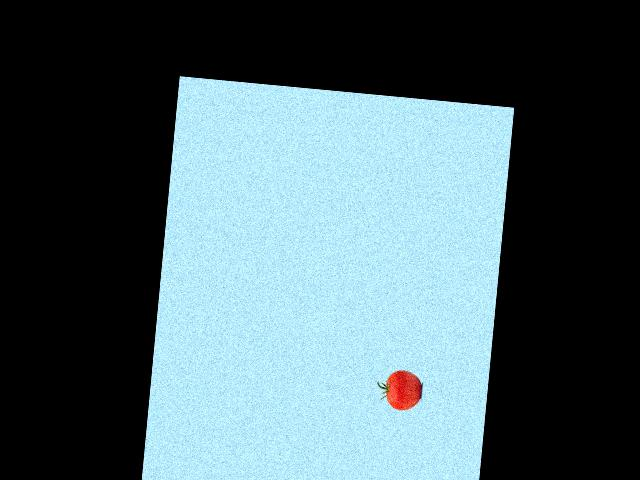tomato: (384, 369, 422, 412)
